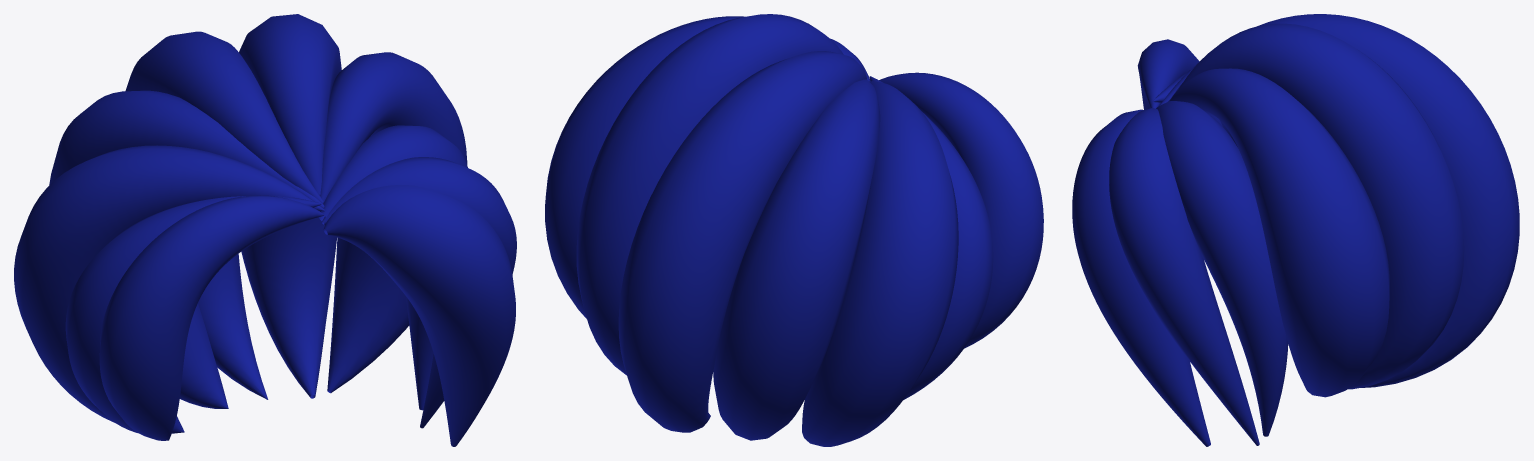
Rendered from mavi saç.fbx.
3 views of the same model, side by side, from view 1: azimuth 30°, elevation 25°; view 2: azimuth 150°, elevation 25°; view 3: azimuth 270°, elevation 25° (orthographic). The views are drawn at different scales.
Parts seen in each view (by area): view 1: NurbsYolu; view 2: NurbsYolu; view 3: NurbsYolu.
Part boxes in pixels (x1=…): NurbsYolu: x1=14, y1=14, x2=516, y2=446; NurbsYolu: x1=545, y1=14, x2=1043, y2=446; NurbsYolu: x1=1072, y1=14, x2=1519, y2=446.
Bounding box in the file's own units: 397 × 361 × 397.
